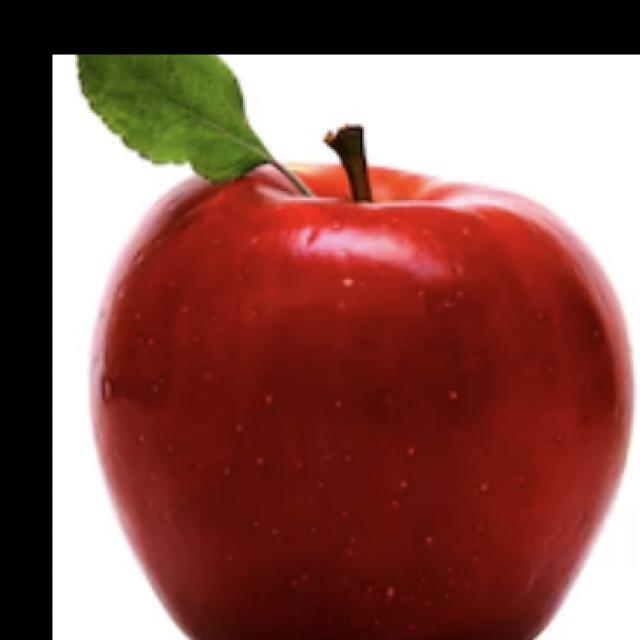Fresh Apple: (88, 165, 637, 640)
